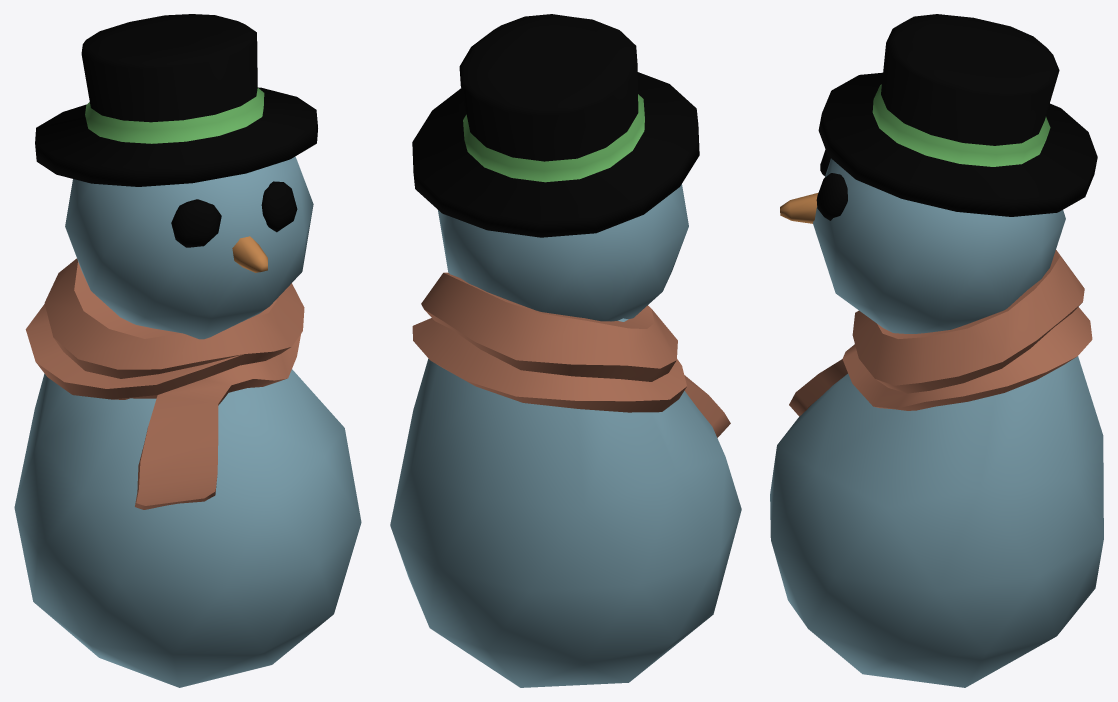
Rendered from Snowman.fbx.
3 views of the same model, side by side, from view 1: azimuth 30°, elevation 25°; view 2: azimuth 150°, elevation 25°; view 3: azimuth 270°, elevation 25° (orthographic).
Parts seen in each view (by area): view 1: Snowman, Hat, Head, Eye (×2), Carrot; view 2: Snowman, Hat, Head; view 3: Snowman, Hat, Head, Eye, Carrot.
Part boxes in pixels (bbox=[...]): Snowman: bbox=[14, 258, 361, 687]; Hat: bbox=[35, 14, 317, 186]; Head: bbox=[65, 156, 313, 339]; Eye (×2): bbox=[171, 181, 297, 247]; Carrot: bbox=[232, 236, 267, 272]; Snowman: bbox=[390, 272, 741, 687]; Hat: bbox=[412, 14, 699, 237]; Head: bbox=[438, 184, 688, 321]; Snowman: bbox=[770, 250, 1103, 687]; Hat: bbox=[818, 14, 1097, 216]; Head: bbox=[813, 158, 1065, 333]; Eye: bbox=[816, 173, 847, 220]; Carrot: bbox=[780, 192, 818, 223].
Bounding box in the file's own units: 0.8904 × 1.79 × 0.8502.
Materials: 3 (1 with a texture image).
